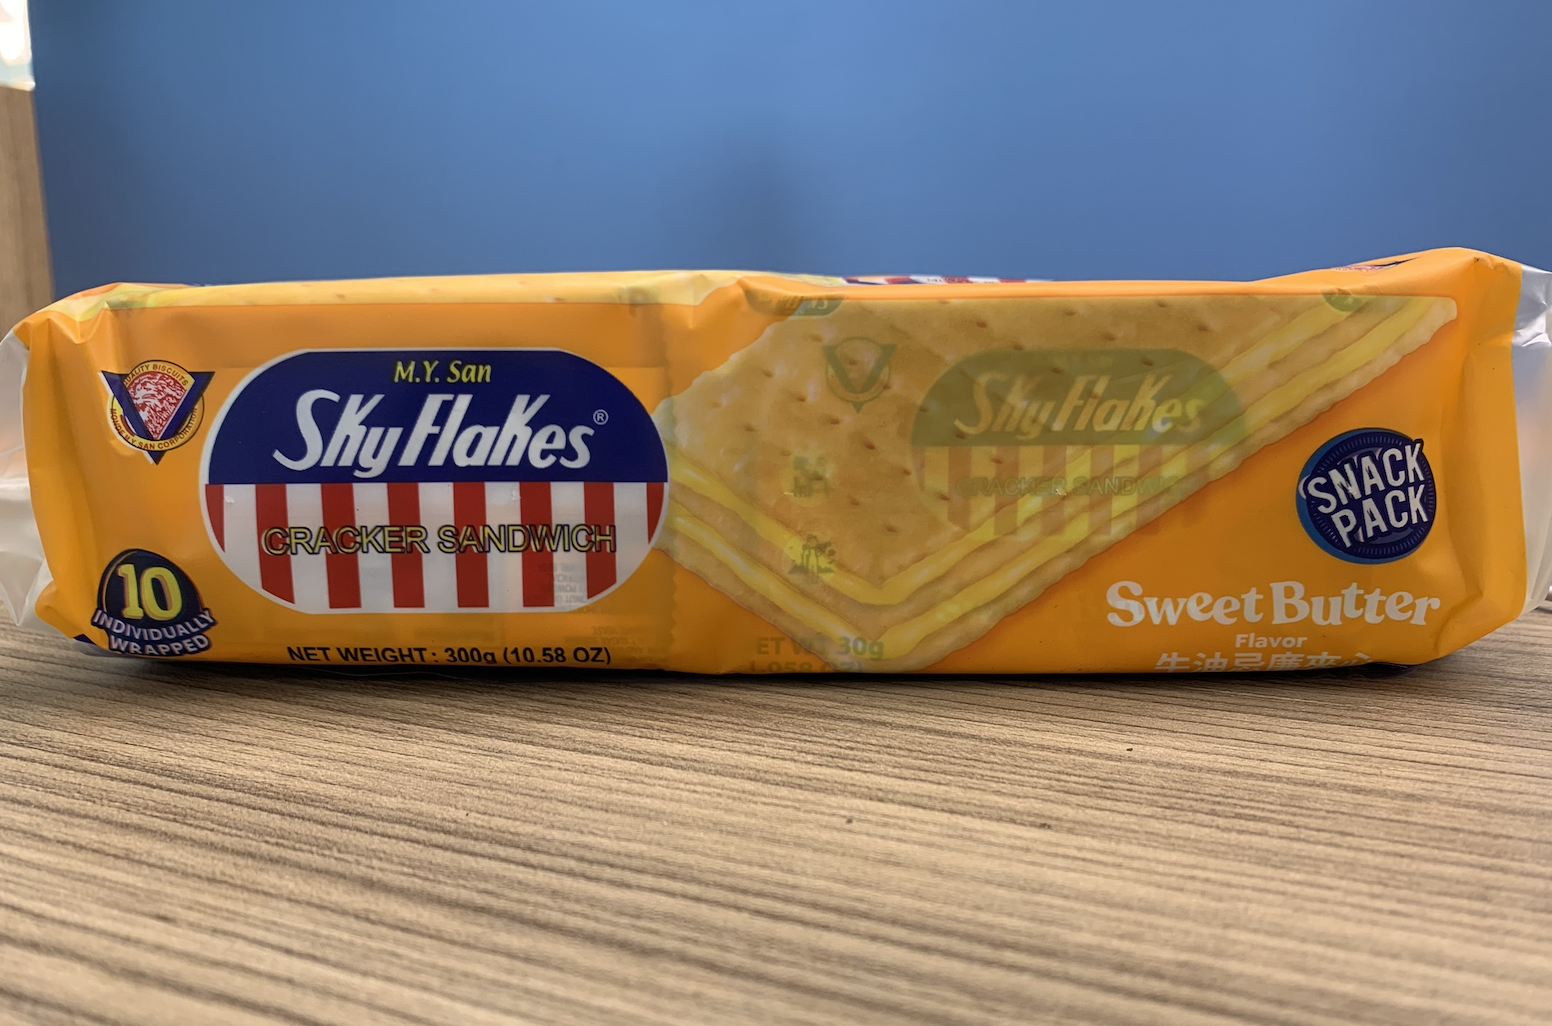crackers_300g-399g: (89, 299, 1465, 652)
